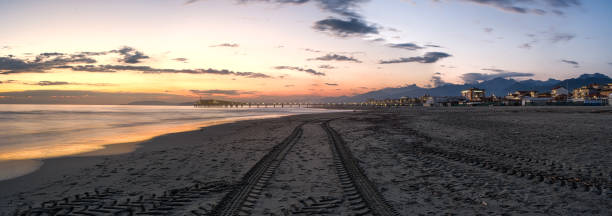vehicle_track: (413, 142, 611, 195), (413, 144, 611, 195), (208, 124, 303, 215), (15, 181, 230, 215), (321, 121, 397, 215)
